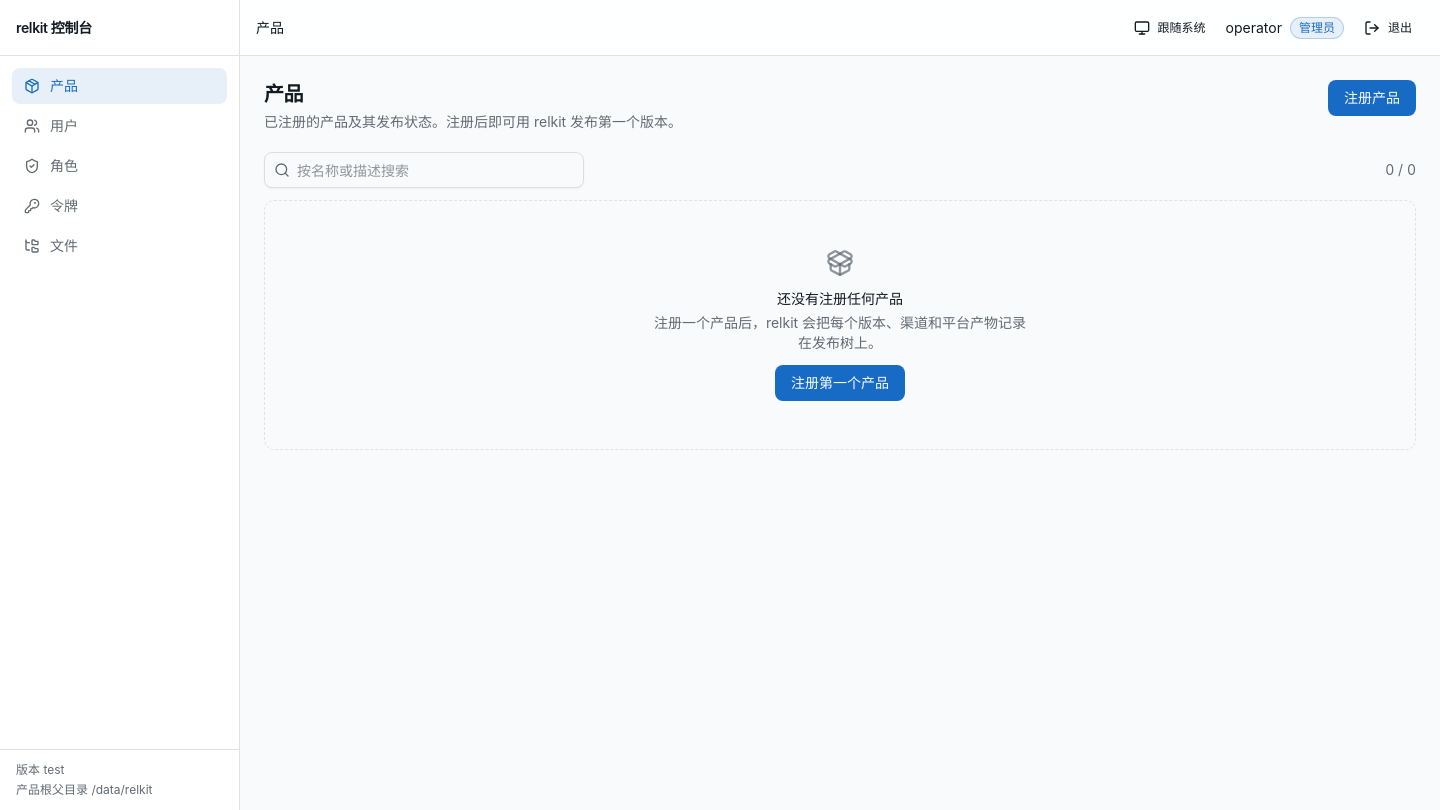
it: finding #4: signing out lands on the sign-in screen › shows the sign-in form right after the sign-out button is pressed
Click the button with aria-label "退出登录" at (1388, 28), box [1352, 12, 1424, 44]
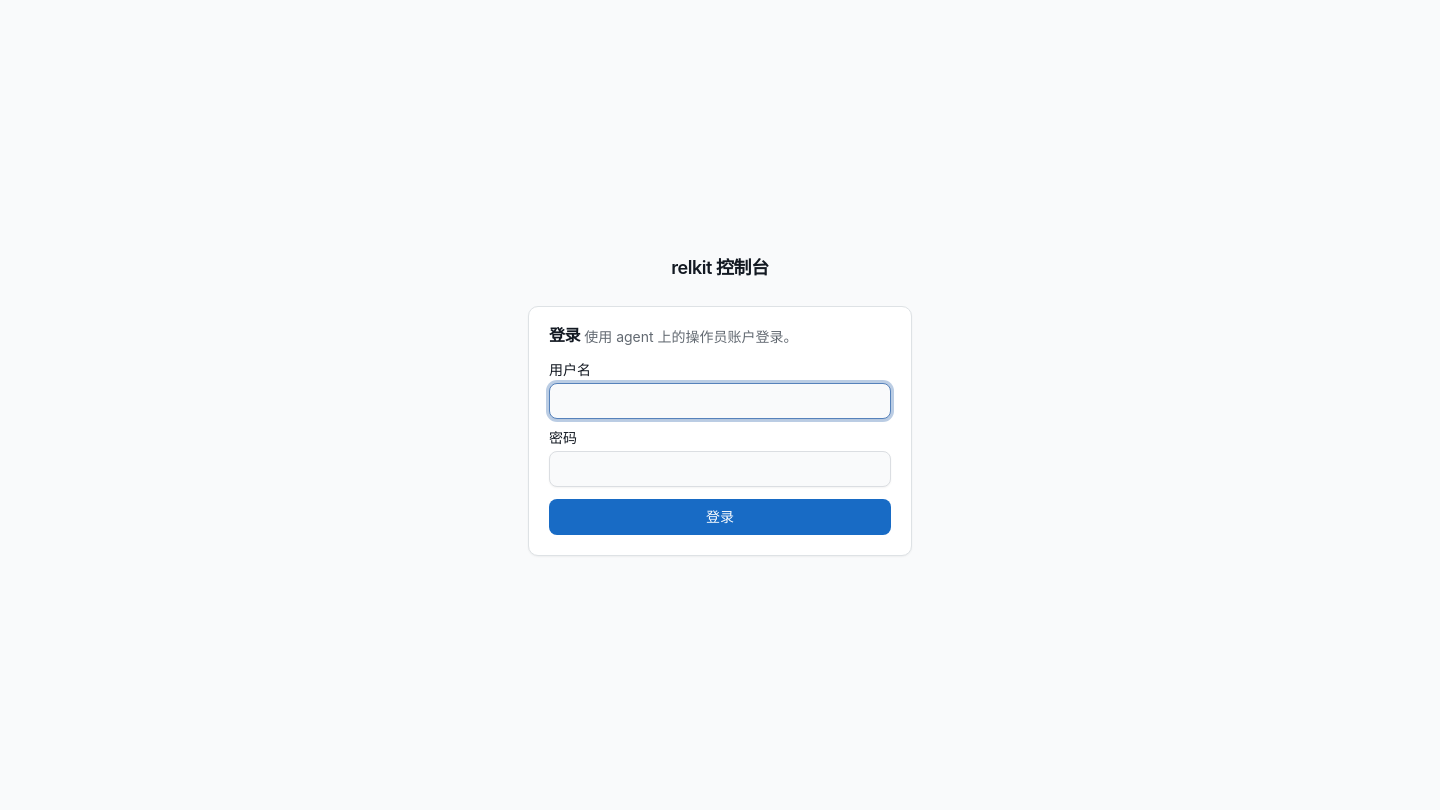
expect the button "登录" is shown: met, box [549, 499, 891, 535]
expect the button "退出登录" is gone: met
